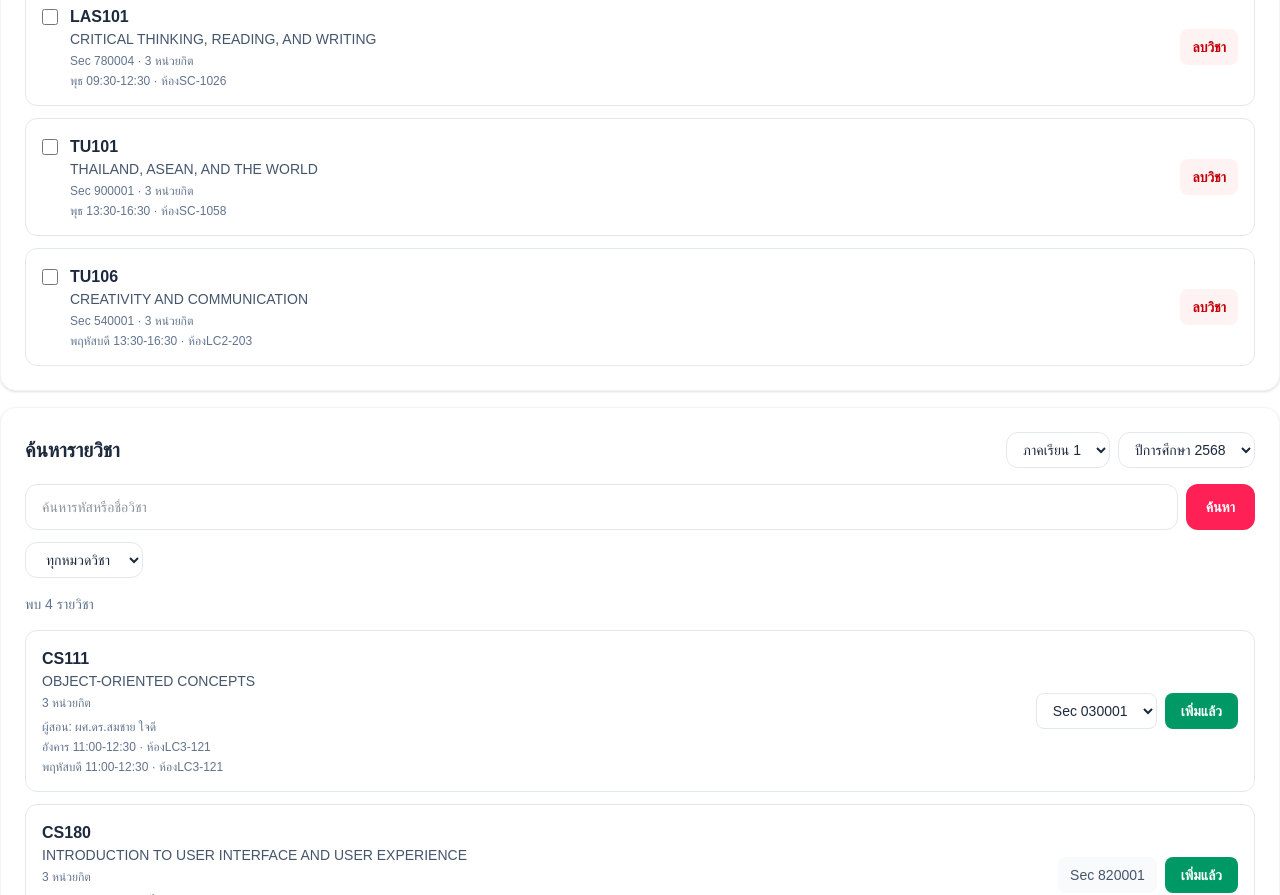
it: US1-T10 หน้าตารางเรียนจำลองเชื่อมกับ API › เปลี่ยนภาคเรียน โหลดตารางและรายวิชาของภาคใหม่ และไม่แสดงวิชาของภาคเดิม
The image size is (1280, 895).
(page scrolled)
Step 1. Select "ภาคเรียน 2" in the dropdown named "ภาคเรียน" → {"x": 1058, "y": 450}, box [1006,432,1110,468]
(page scrolled)
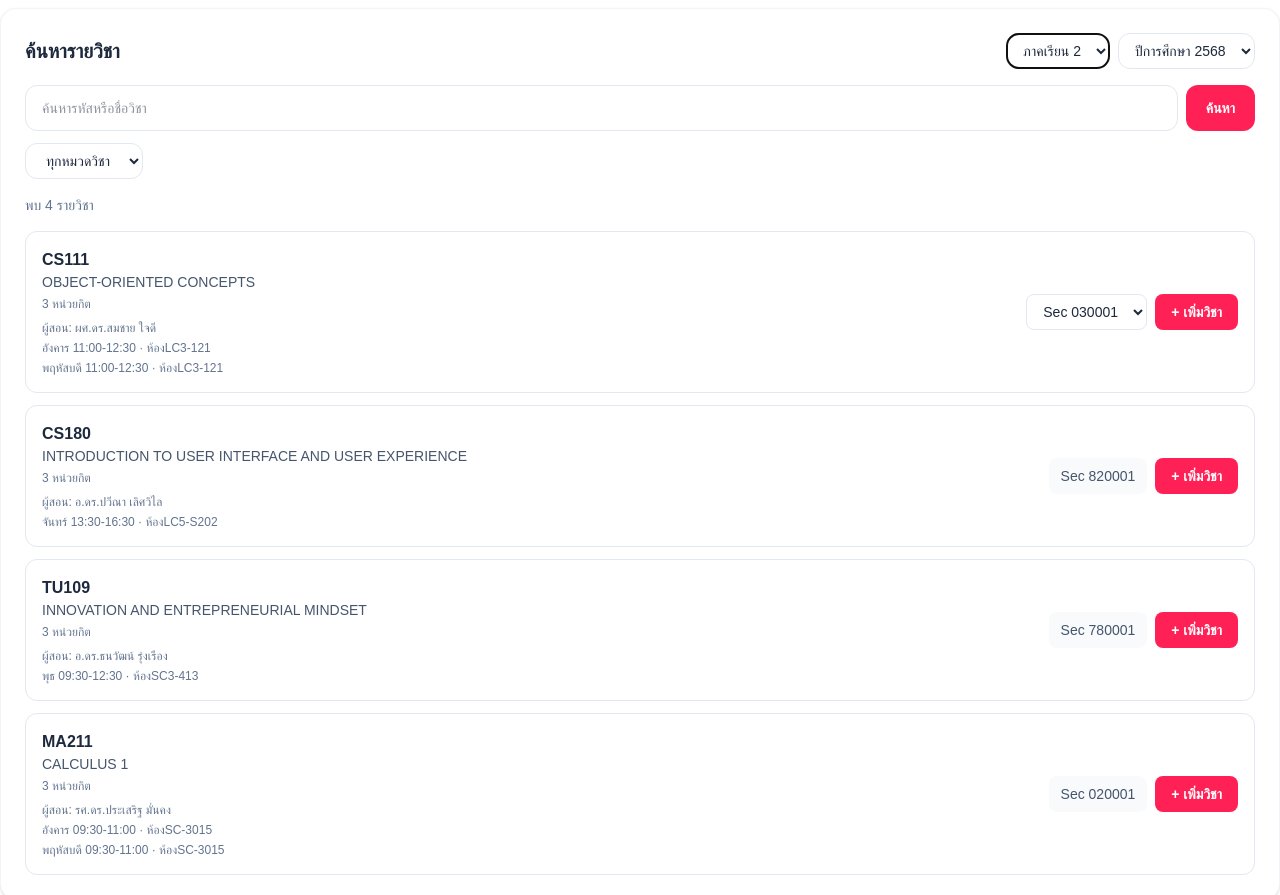
Step 2. Select "ภาคเรียน 1" in the dropdown named "ภาคเรียน" → {"x": 1058, "y": 51}, box [1006,33,1110,69]
(page scrolled)
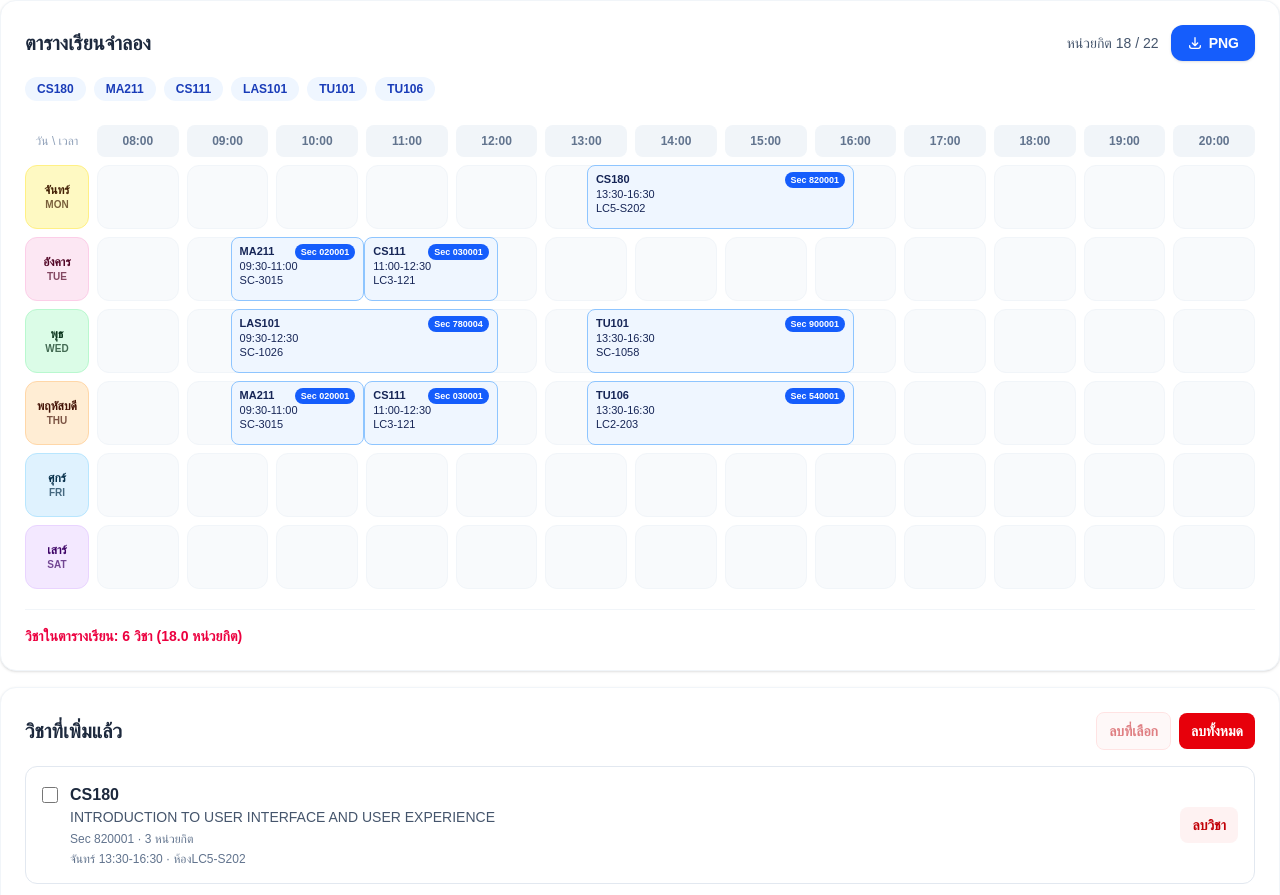
expect the text "หน่วยกิต 18 / 22" is shown: met, box [1067,35,1159,51]
